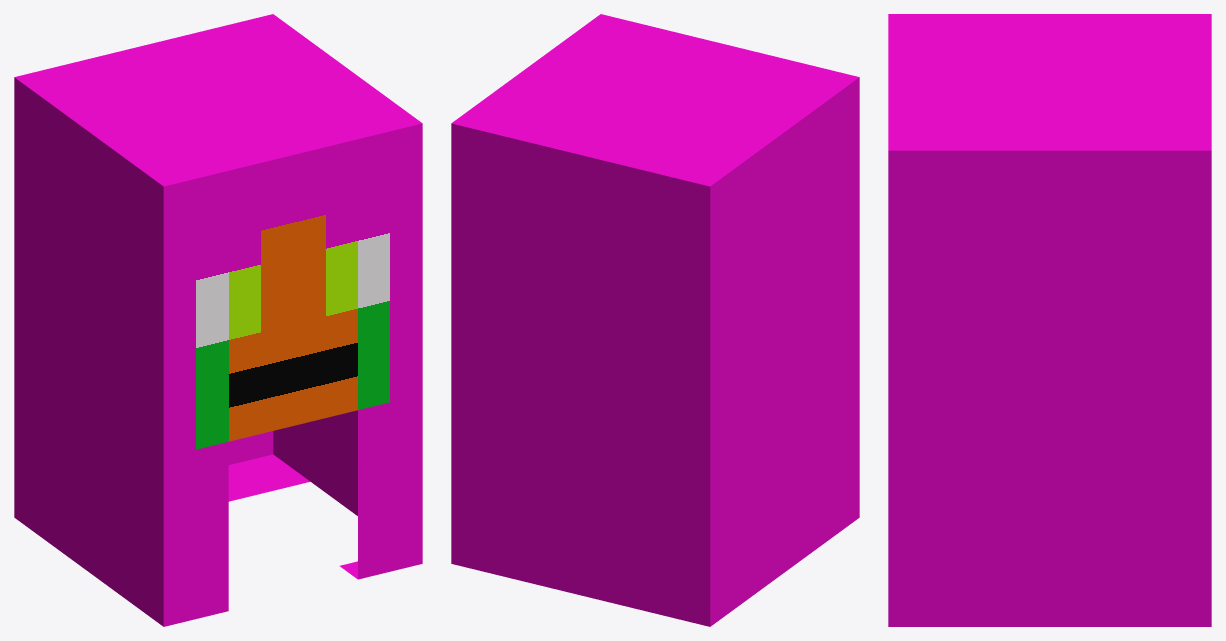
The model's file is CharacterBase_Head.fbx.
3 views of the same model, side by side, from view 1: azimuth 30°, elevation 25°; view 2: azimuth 150°, elevation 25°; view 3: azimuth 270°, elevation 25° (orthographic). The views are drawn at different scales.
Parts seen in each view (by area): view 1: head, hair; view 2: head, hair; view 3: head, hair.
Boxes of the visible parts, bbox=[...] form: head: bbox=[14, 14, 422, 457]; hair: bbox=[14, 348, 422, 626]; head: bbox=[451, 14, 859, 457]; hair: bbox=[451, 348, 859, 626]; head: bbox=[888, 14, 1211, 443]; hair: bbox=[888, 443, 1211, 626].
Size of the model in its own units: 50 by 81.25 by 50.
1 material, 1 textured.
